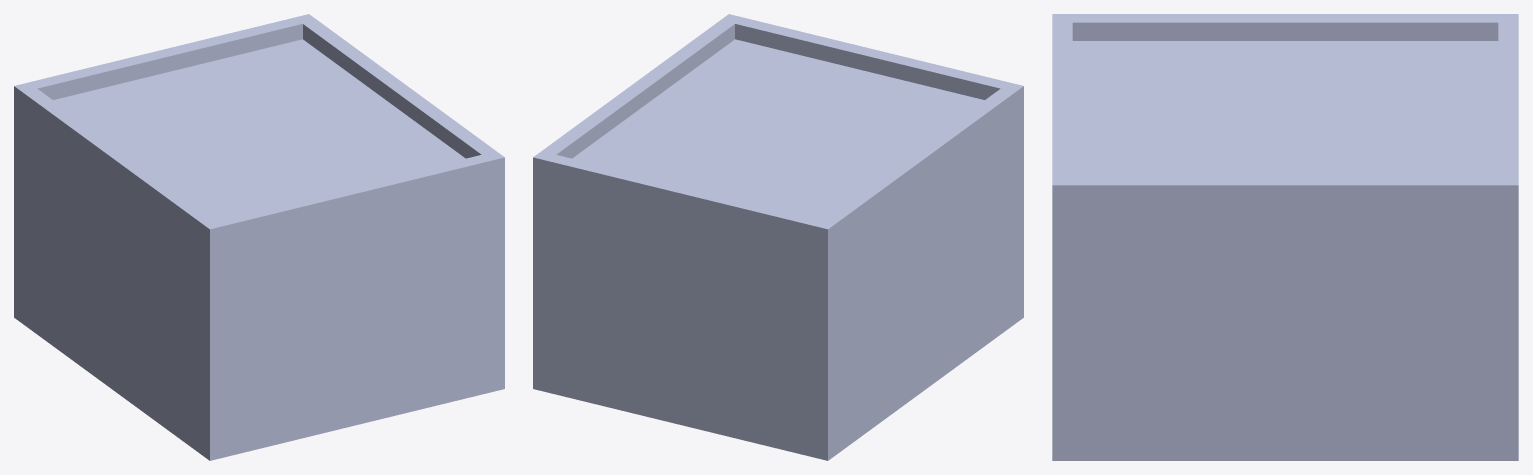
Rendered from Wallmount - 20in._y.fbx.
3 renders of one model, left to right at view 1: azimuth 30°, elevation 25°; view 2: azimuth 150°, elevation 25°; view 3: azimuth 270°, elevation 25°, orthographic. The views are drawn at different scales.
Visible parts, largest first — view 1: Body_1; view 2: Body_1; view 3: Body_1.
Boxes of the visible parts, box(x1,y1,x2,y2) form: Body_1: box(14, 14, 504, 460); Body_1: box(533, 14, 1023, 460); Body_1: box(1052, 14, 1518, 460).
Size of the model in its own units: 0.508 by 0.5842 by 0.381.
